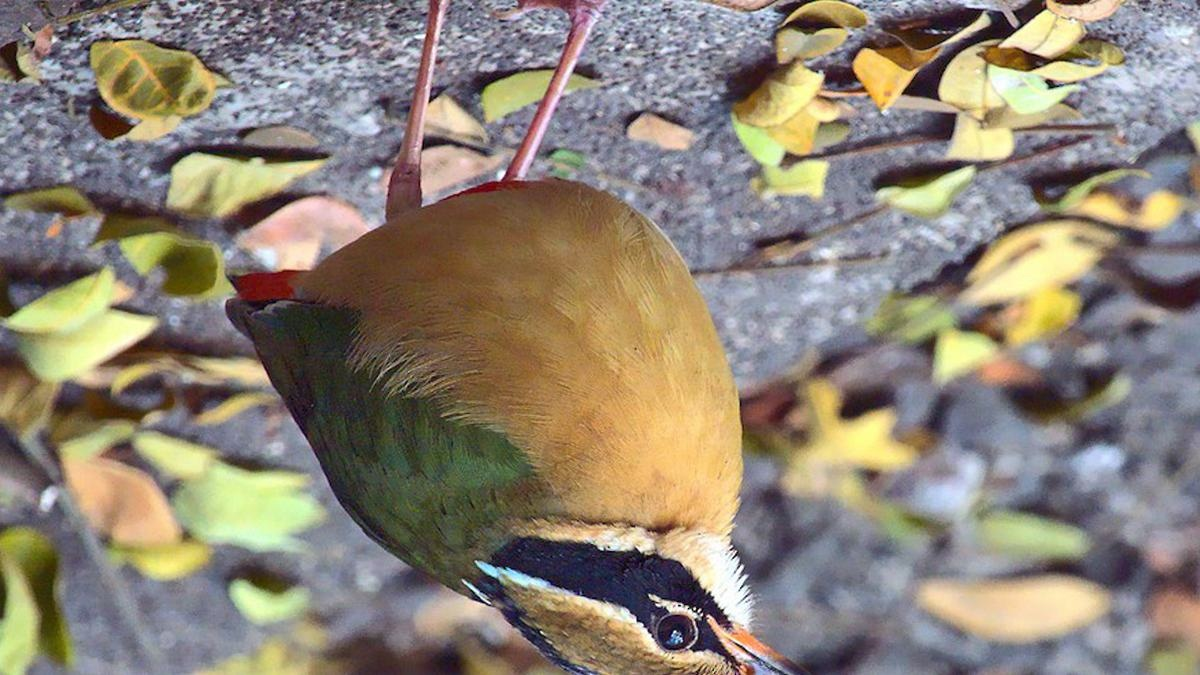pitta: (256, 110, 836, 675)
